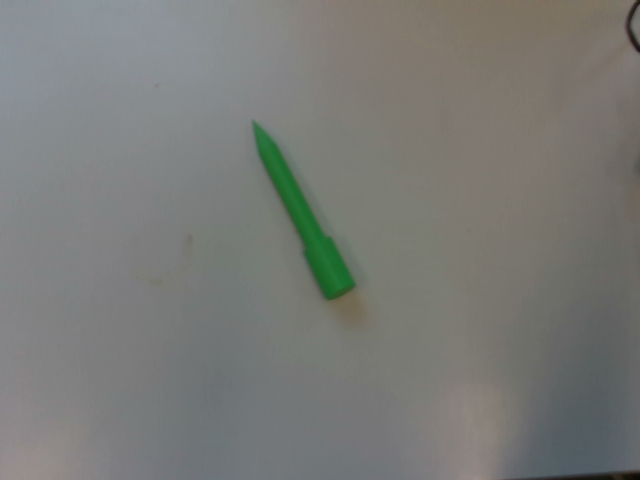Probe: (248, 112, 362, 312)
